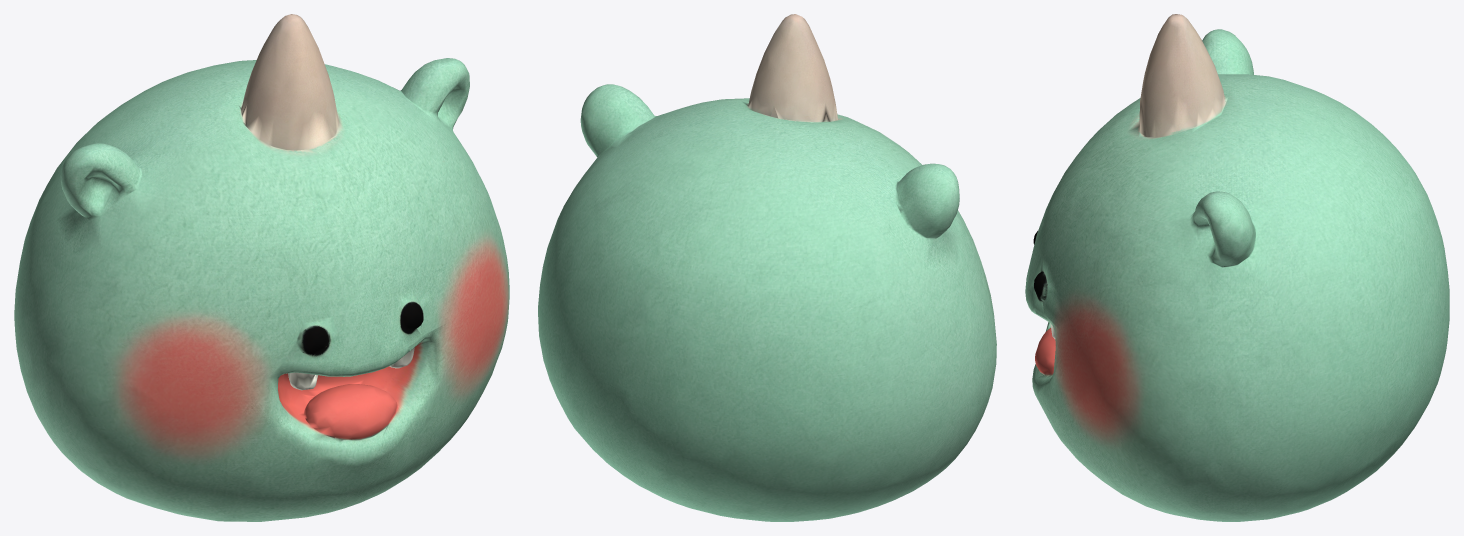
File: kkebi_head.glb
3 views of the same model, side by side, from view 1: azimuth 30°, elevation 25°; view 2: azimuth 150°, elevation 25°; view 3: azimuth 270°, elevation 25° (orthographic). The views are drawn at different scales.
Parts seen in each view (by area): view 1: Mesh_0.001; view 2: Mesh_0.001; view 3: Mesh_0.001.
Part boxes in pixels (x1,y1,x2,y2): Mesh_0.001: (14,14,509,521); Mesh_0.001: (538,14,996,521); Mesh_0.001: (1025,14,1449,521).
Bounding box in the file's own units: 0.192 × 0.2 × 0.1664.
1 material, 1 textured.
